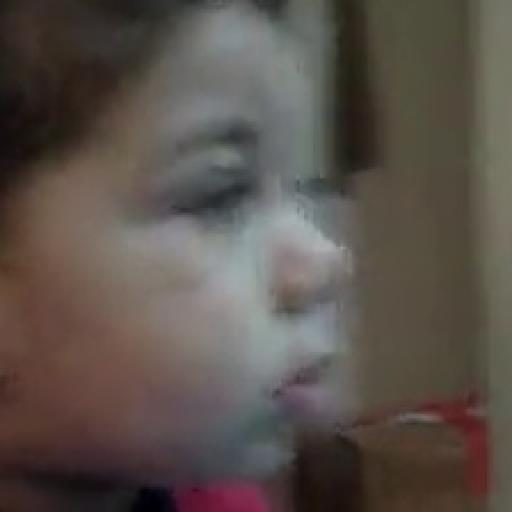Autism: (44, 44, 402, 512)
